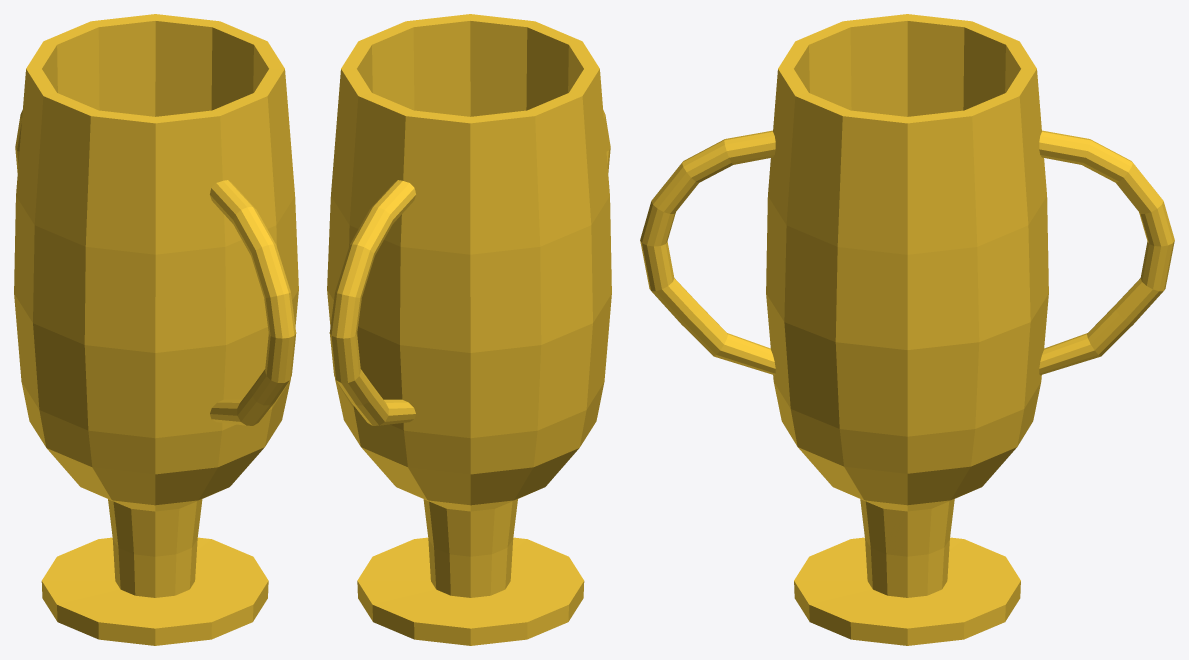
Rendered from Football Cup.fbx.
3 views of the same model, side by side, from view 1: azimuth 30°, elevation 25°; view 2: azimuth 150°, elevation 25°; view 3: azimuth 270°, elevation 25° (orthographic).
Parts seen in each view (by area): view 1: Football Cup; view 2: Football Cup; view 3: Football Cup.
Boxes of the visible parts, x1,y1,x2,y2 form: Football Cup: (14,14,298,645); Football Cup: (327,14,611,645); Football Cup: (640,14,1174,645).
Size of the model in its own units: 0.1131 by 0.2317 by 0.212.
